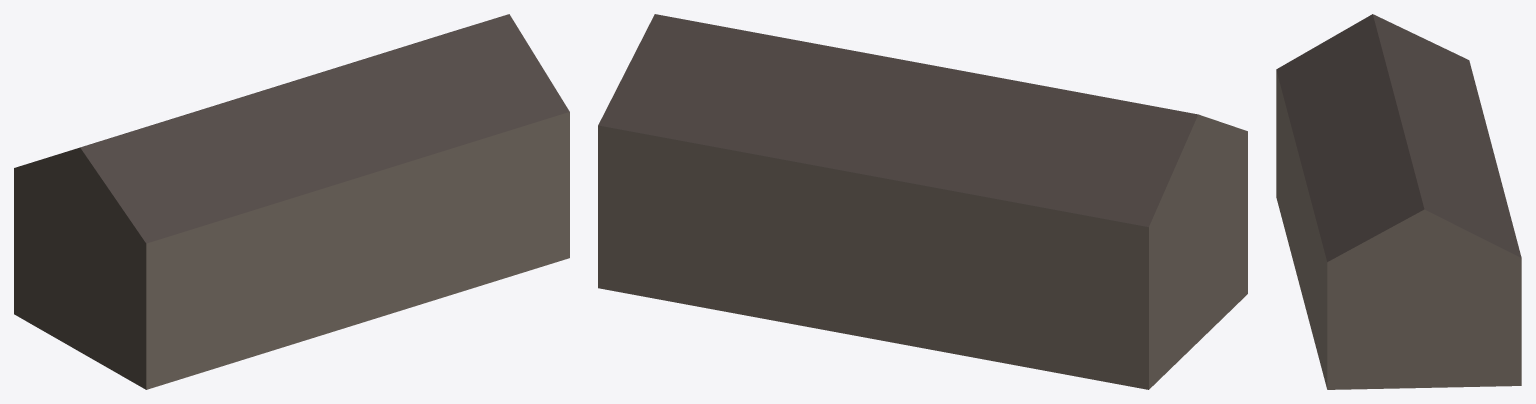
The picture shows the model from 3 angles, left to right: view 1: azimuth 30°, elevation 25°; view 2: azimuth 150°, elevation 25°; view 3: azimuth 270°, elevation 25°; orthographic projection. The views are drawn at different scales.
Visible parts, largest first — view 1: HP-w859467774; view 2: HP-w859467774; view 3: HP-w859467774.
Boxes of the visible parts, left/top/right/bottom form: HP-w859467774: left=14, top=14, right=569, bottom=389; HP-w859467774: left=598, top=14, right=1247, bottom=389; HP-w859467774: left=1276, top=14, right=1521, bottom=389.
Bounding box in the file's own units: 30.54 × 12.58 × 15.68.
